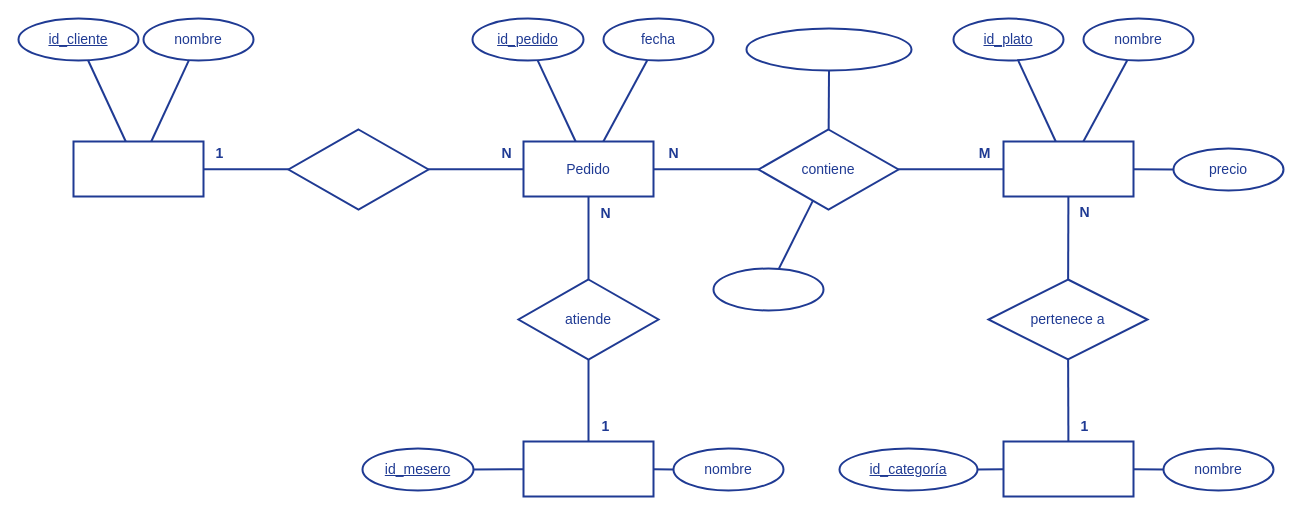
The diagram is 1301 pixels wide and 514 high, and some of its shapes have lost their labels. The shapes that lost their labels are listed below. From the top down, each one's centre as x and y in pixels, then its label:
At [828,49]: "precio_unitario".
At [138,168]: "Cliente".
At [358,169]: "realiza".
At [1068,168]: "Plato".
At [768,289]: "cantidad".
At [588,468]: "Mesero".
At [1068,468]: "Categoría".
